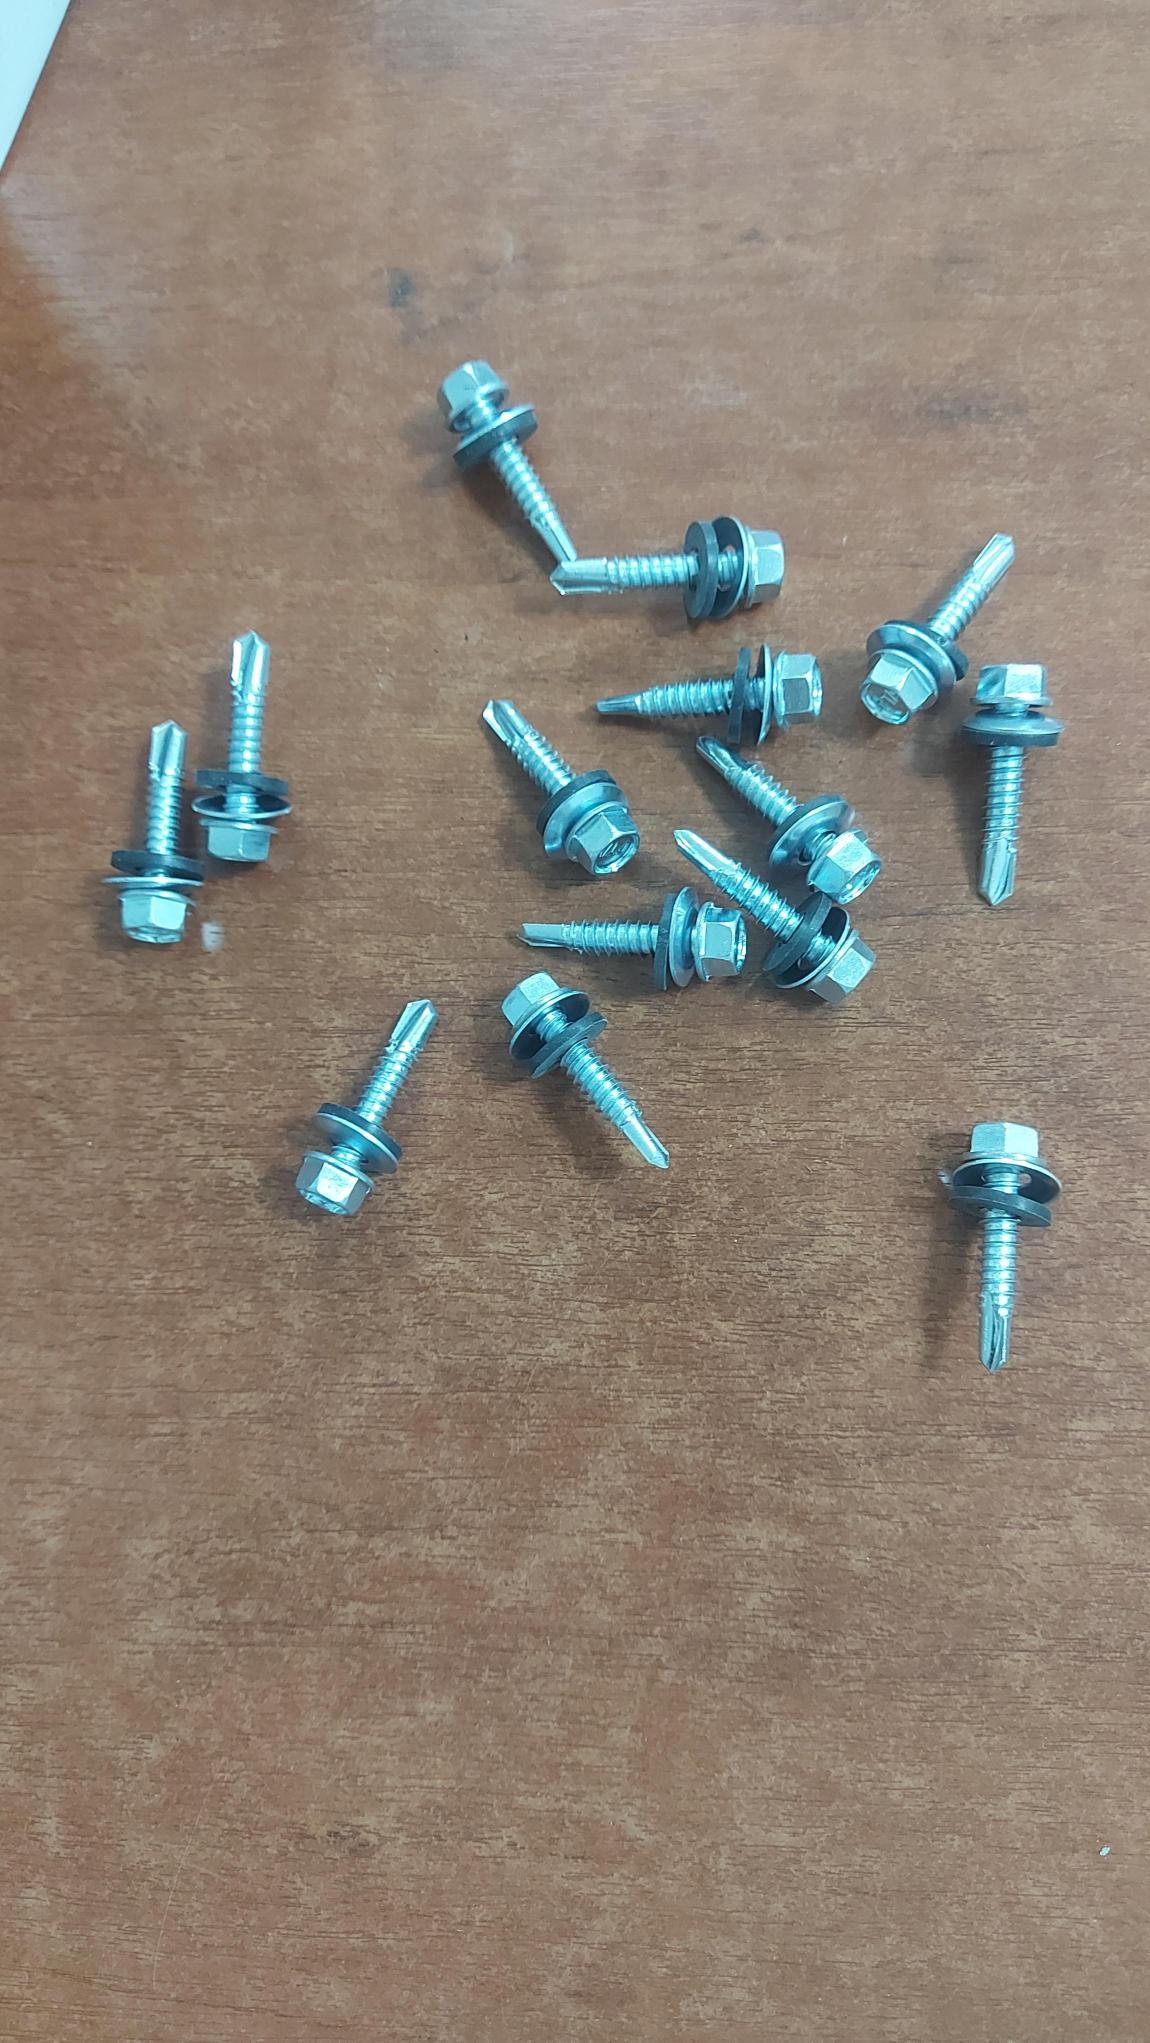Screw: (675, 829, 872, 1005), (502, 972, 668, 1167), (697, 737, 879, 902), (296, 1000, 436, 1215), (860, 535, 1014, 724), (944, 1123, 1060, 1372), (482, 699, 638, 876), (439, 361, 575, 563), (551, 516, 784, 620), (963, 664, 1062, 904), (520, 887, 745, 991), (194, 631, 289, 863), (108, 721, 202, 944), (597, 647, 823, 738)
